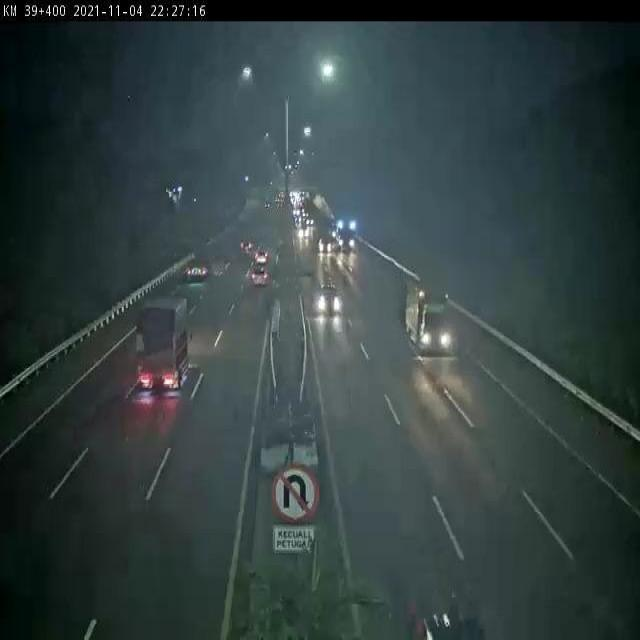car: (317, 280, 342, 312), (248, 266, 271, 290), (253, 245, 269, 268), (238, 237, 254, 255)
truck-m-: (136, 299, 189, 388), (404, 281, 453, 352), (183, 246, 212, 282)
